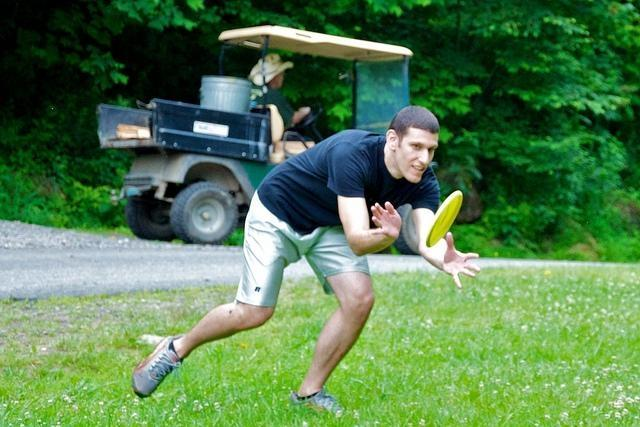car: (101, 24, 415, 244)
